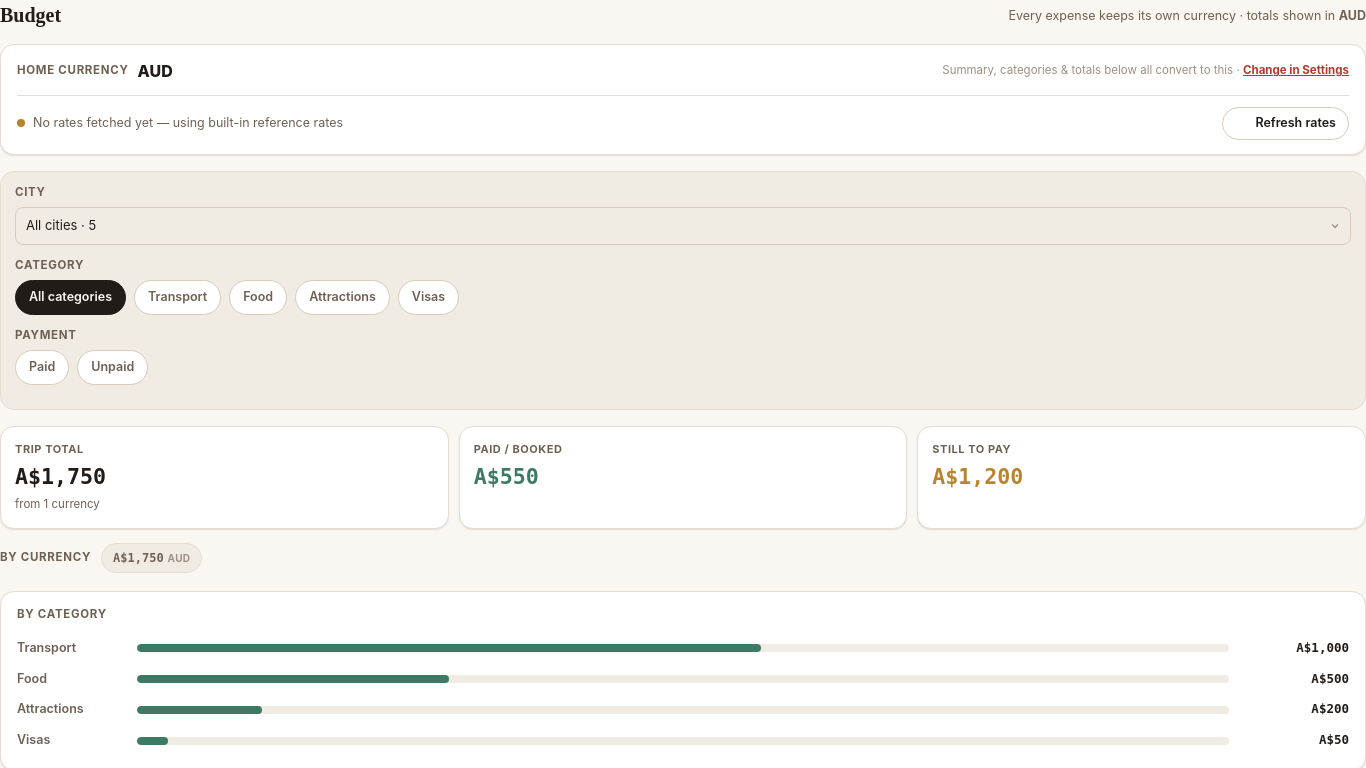
Test: BudgetPanel — filters › filters by city, and rebases the totals onto that city
Select "Singapore · 2" in the dropdown labelled "City" at (683, 226), box [15,207,1351,244]
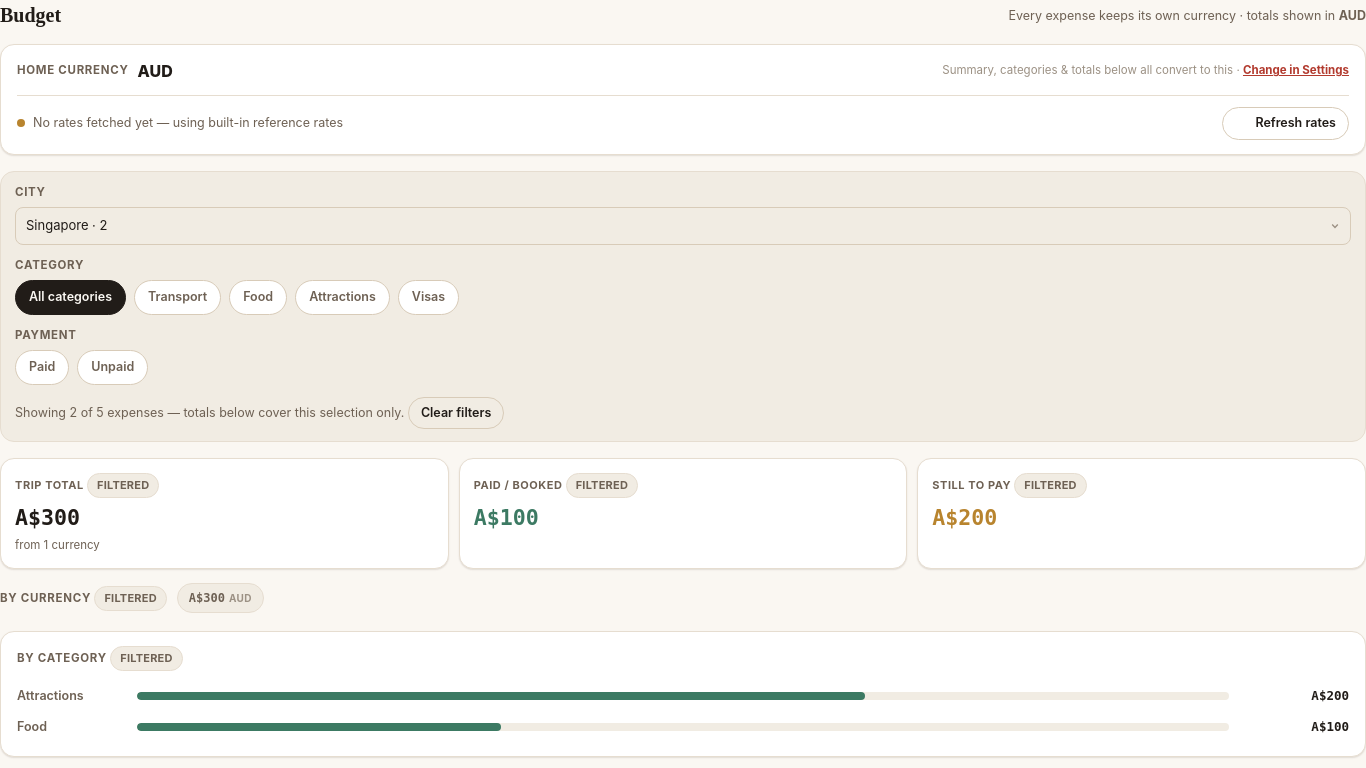
Expected: the text with class "home" reads "A$300", [15,505,80,530]
